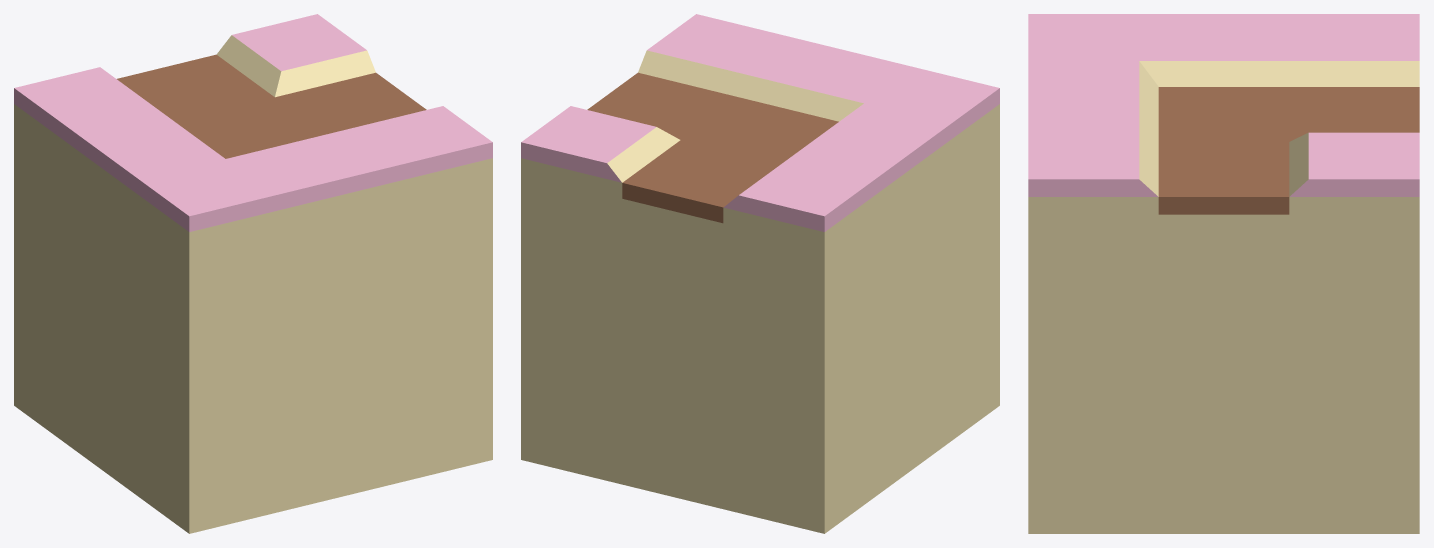
The model's file is CandylandRiverCurveCube.fbx.
The picture shows the model from 3 angles, left to right: view 1: azimuth 30°, elevation 25°; view 2: azimuth 150°, elevation 25°; view 3: azimuth 270°, elevation 25°; orthographic projection. The views are drawn at different scales.
Parts seen in each view (by area): view 1: CandylandRiverCurveCube; view 2: CandylandRiverCurveCube; view 3: CandylandRiverCurveCube.
Boxes of the visible parts, x1,y1,x2,y2 form: CandylandRiverCurveCube: [14, 14, 492, 533]; CandylandRiverCurveCube: [521, 14, 999, 533]; CandylandRiverCurveCube: [1028, 14, 1419, 533].
Size of the model in its own units: 1 by 1 by 1.
